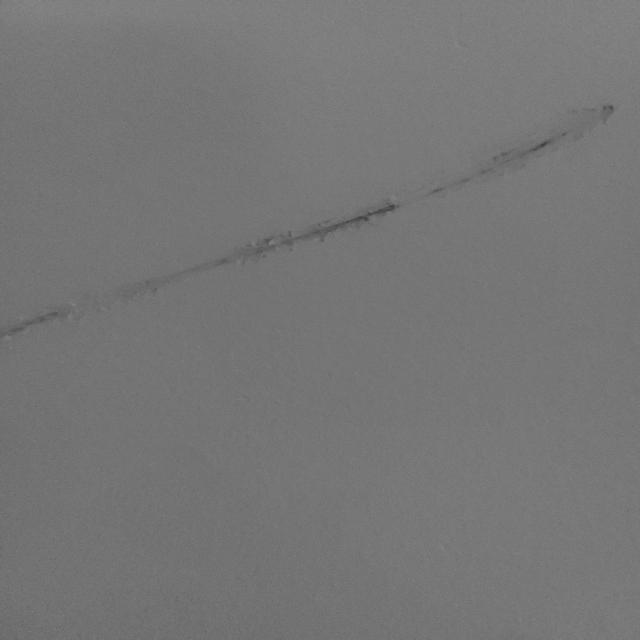rough and patchy surface: (0, 359, 639, 640), (0, 94, 640, 358), (0, 0, 640, 94)
